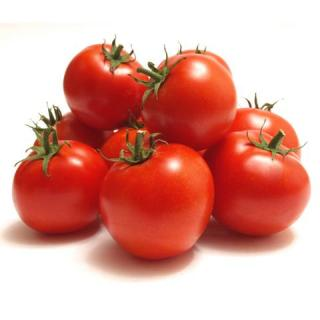Tomat: (98, 124, 216, 262), (63, 35, 150, 132)
